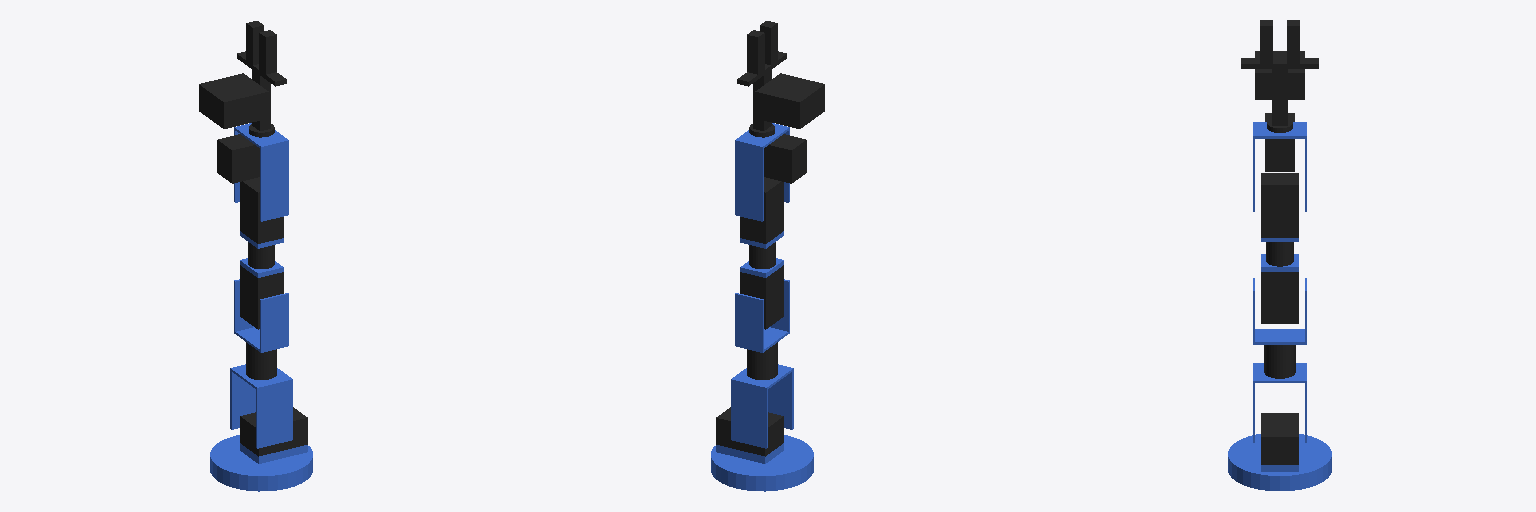
URDF robot description (xArm):
<?xml version="1.0" ?>
<robot name="xArm">

<!--arm_worls_link-->
  <link name="world"/>

  <joint name="world_joint" type="fixed">
    <parent link="world"/>
    <child link="base_link"/>
    <origin rpy="0.0 0.0 0.0" xyz="0.0 0.0 0.05"/>
  </joint>

  <link name="base_link"/>

  <!--arm_link_1-->

  <joint name="arm1" type="continuous">
    <parent link="base_link"/>
    <child link="link1"/>
    <origin rpy="0.0 0.0 0.0" xyz="0.0 0.0 0.05"/>
    <axis xyz="0 0 1"/>
  </joint>

  <link name="link1">
    <visual>
      <origin rpy="0 0 0.0" xyz="0 0 0.0065"/>
      <geometry>
        <cylinder length="0.013" radius="0.04"/>
      </geometry>
      <material name="blue">
	<color rgba="0.3 0.5 0.9 1.0"/>
      </material>
    </visual>
    <visual>
      <origin rpy="0 0 0" xyz="0.011 0.0 0.01625"/>
      <geometry>
        <box size="0.044 0.0285 0.0065"/>
      </geometry>
      <material name="blue">
	<color rgba="0.3 0.5 0.9 1.0"/>
      </material>
    </visual>
    <visual>
      <origin rpy="0 0 0" xyz="0.011 0.0 0.031"/>
      <geometry>
        <box size="0.044 0.0285 0.023"/>
      </geometry>
      <material name="black">
	<color rgba="0.2 0.2 0.2 1"/>
      </material>
    </visual>
  </link>

  <!--arm_link_2-->

  <joint name="arm2" type="continuous">
    <parent link="link1"/>
    <child link="link2"/>
    <origin rpy="0.0 0.0 0.0" xyz="0.0 0.0 0.0425"/>
    <axis xyz="0 1 0"/>
  </joint>

  <link name="link2">
    <visual>
      <origin rpy="0 0 0" xyz="0.0 0.02 0.0135"/>
      <geometry>
        <box size="0.032 0.002 0.052"/>
      </geometry>
      <material name="blue">
	<color rgba="0.3 0.5 0.9 1.0"/>
      </material>
    </visual>
    <visual>
      <origin rpy="0 0 0" xyz="0.0 -0.02 0.0135"/>
      <geometry>
        <box size="0.032 0.002 0.052"/>
      </geometry>
      <material name="blue">
	<color rgba="0.3 0.5 0.9 1.0"/>
      </material>
    </visual>
    <visual>
      <origin rpy="0 0 0" xyz="0.0 0.0 0.0385"/>
      <geometry>
        <box size="0.032 0.042 0.002"/>
      </geometry>
      <material name="blue">
	<color rgba="0.3 0.5 0.9 1.0"/>
      </material>
    </visual>
    <visual>
      <origin rpy="0 0 1.57075" xyz="0 0 0.054"/>
      <geometry>
        <cylinder length="0.029" radius="0.012"/>
      </geometry>
      <material name="black">
	<color rgba="0.2 0.2 0.2 1.0"/>
      </material>
    </visual>
    <visual>
      <origin rpy="0 0 0" xyz="0.0 0.0 0.0695"/>
      <geometry>
        <box size="0.025 0.042 0.002"/>
      </geometry>
      <material name="blue">
	<color rgba="0.3 0.5 0.9 1.0"/>
      </material>
    </visual>
    <visual>
      <origin rpy="0 0 0" xyz="0.0 0.02 0.091"/>
      <geometry>
        <box size="0.025 0.002 0.045"/>
      </geometry>
      <material name="blue">
	<color rgba="0.3 0.5 0.9 1.0"/>
      </material>
    </visual>
    <visual>
      <origin rpy="0 0 0" xyz="0.0 -0.02 0.091"/>
      <geometry>
        <box size="0.025 0.002 0.045"/>
      </geometry>
      <material name="blue">
	<color rgba="0.3 0.5 0.9 1.0"/>
      </material>
    </visual>
  </link>

  <!--arm_link_3-->

  <joint name="arm3" type="continuous">
    <parent link="link2"/>
    <child link="link3"/>
    <origin rpy="0.0 0.0 0.0" xyz="0.0 0.0 0.0965"/>
    <axis xyz="0 1 0"/>
  </joint>

  <link name="link3">
    <visual>
      <origin rpy="0 0 0" xyz="0.0 0.0 0.011"/>
      <geometry>
        <box size="0.023 0.0285 0.044"/>
      </geometry>
      <material name="black">
	<color rgba="0.2 0.2 0.2 1"/>
      </material>
    </visual>
    <visual>
      <origin rpy="0 0 0" xyz="0.0 0.0 0.035"/>
      <geometry>
        <box size="0.023 0.0285 0.004"/>
      </geometry>
      <material name="blue">
	<color rgba="0.3 0.5 0.9 1.0"/>
      </material>
    </visual>
    <visual>
      <origin rpy="0 0 1.57075" xyz="0 0 0.0475"/>
      <geometry>
        <cylinder length="0.021" radius="0.0105"/>
      </geometry>
      <material name="black">
	<color rgba="0.2 0.2 0.2 1.0"/>
      </material>
    </visual>
    <visual>
      <origin rpy="0 0 0" xyz="0.0 0.0 0.060"/>
      <geometry>
        <box size="0.023 0.0285 0.004"/>
      </geometry>
      <material name="blue">
	<color rgba="0.3 0.5 0.9 1.0"/>
      </material>
    </visual>
    <visual>
      <origin rpy="0 0 0" xyz="0.0 0.0 0.084"/>
      <geometry>
        <box size="0.023 0.0285 0.044"/>
      </geometry>
      <material name="black">
	<color rgba="0.2 0.2 0.2 1"/>
      </material>
    </visual>
  </link>

  <joint name="arm4" type="continuous">
    <parent link="link3"/>
    <child link="link4"/>
    <origin rpy="0.0 0.0 0.0" xyz="0.0 0.0 0.0965"/>
    <axis xyz="0 1 0"/>
  </joint>

<!--arm_link_4-->
  <link name="link4">
    <visual>
      <origin rpy="0 0 0" xyz="0.0 0.02 0.0195"/>
      <geometry>
        <box size="0.025 0.002 0.064"/>
      </geometry>
      <material name="blue">
	<color rgba="0.3 0.5 0.9 1.0"/>
      </material>
    </visual>
    <visual>
      <origin rpy="0 0 0" xyz="0.0 -0.02 0.0195"/>
      <geometry>
        <box size="0.025 0.002 0.064"/>
      </geometry>
      <material name="blue">
	<color rgba="0.3 0.5 0.9 1.0"/>
      </material>
    </visual>
    <visual>
      <origin rpy="0 0 0" xyz="0.0 0.0 0.0505"/>
      <geometry>
        <box size="0.025 0.042 0.002"/>
      </geometry>
      <material name="blue">
	<color rgba="0.3 0.5 0.9 1.0"/>
      </material>
    </visual>
    <visual>
      <origin rpy="0 0 0" xyz="-0.011 0.0 0.03525"/>
      <geometry>
        <box size="0.044 0.023 0.0285"/>
      </geometry>
      <material name="black">
	<color rgba="0.2 0.2 0.2 1"/>
      </material>
    </visual>
  </link>

<!--arm_link_5-->
  <joint name="arm5" type="continuous">
    <parent link="link4"/>
    <child link="link5"/>
    <origin rpy="0.0 0.0 0.0" xyz="0.0 0.0 0.055"/>
    <axis xyz="0 0 1"/>
  </joint>

  <link name="link5">
    <visual>
      <origin rpy="0 0 0.0" xyz="0 0 0"/>
      <geometry>
        <cylinder length="0.004" radius="0.01"/>
      </geometry>
      <material name="black">
	<color rgba="0.2 0.2 0.2 1.0"/>
      </material>
    </visual>
  </link>

<!--gripper_link-->
  <link name="gripper_link">
    <visual>
      <geometry>
        <box size="0.01 0.06 0.004"/>
      </geometry>
      <origin rpy="0 0 0" xyz="0 0 0.002"/>
      <material name="black">
      	<color rgba="0.2 0.2 0.2 1.0"/>
      </material>
    </visual>
    <collision>
      <geometry>
        <box size="0.01 0.06 0.004"/>
      </geometry>
      <origin rpy="0 0 0" xyz="0 0 0.002"/>
    </collision>
    <visual>
      <origin rpy="0 0 0" xyz="-0.025 0.0 -0.02"/>
      <geometry>
        <box size="0.04 0.039 0.023"/>
      </geometry>
      <material name="black">
	      <color rgba="0.2 0.2 0.2 1"/>
      </material>
    </visual>
        <visual>
      <origin rpy="0 0 0" xyz="0.0 0.0 -0.03"/>
      <geometry>
        <box size="0.01 0.012 0.06"/>
      </geometry>
      <material name="black">
	      <color rgba="0.2 0.2 0.2 1"/>
      </material>
    </visual>
  </link>
  <joint name="gripper_to_arm" type="fixed">
    <origin rpy="0 0 0" xyz="0 0 0.05"/>
    <parent link="link5"/>
    <child link="gripper_link"/>
  </joint>
  
  <!--left_gripper_finger-->
  <link name="left_gripper">
    <visual>
      <geometry>
        <box size="0.01 0.01 0.032"/>
      </geometry>
      <origin rpy="0 0 0" xyz="0 0 0.016"/>
      <material name="black">
      	<color rgba="0.2 0.2 0.2 1.0"/>
      </material>
    </visual>
    <collision>
      <geometry>
        <box size="0.01 0.01 0.032"/>
      </geometry>
      <origin rpy="0 0 0" xyz="0 0 0.016"/>
    </collision>
  </link>
  <joint name="gripper1" type="prismatic">
    <origin rpy="0 0 0" xyz="0 -0.01 0.004"/>
    <parent link="gripper_link"/>
    <child link="left_gripper"/>
    <axis xyz="0 1 0"/>
    <limit effort="16" lower="0" upper="0.03" velocity="2"/>
    <dynamics damping="50" friction="1"/>
  </joint>
  
  <!--right_gripper_finger-->
  <link name="right_gripper">
    <visual>
      <geometry>
        <box size="0.01 0.01 0.032"/>
      </geometry>
      <origin rpy="0 0 0" xyz="0 0 0.016"/>
      <material name="black">
      	<color rgba="0.2 0.2 0.2 1.0"/>
      </material>
    </visual>
    <collision>
      <geometry>
        <box size="0.01 0.01 0.032"/>
      </geometry>
      <origin rpy="0 0 0" xyz="0 0 0.016"/>
    </collision>
  </link>
  <joint name="gripper2" type="prismatic">
    <origin rpy="0 0 0" xyz="0 0.01 0.004"/>
    <parent link="gripper_link"/>
    <child link="right_gripper"/>
    <axis xyz="0 1 0"/>
    <limit effort="16" lower="-0.03" upper="0" velocity="2"/>
    <mimic joint="gripper1" multiplier="-1"/>
    <dynamics damping="50" friction="1"/>
  </joint>
</robot>

--- Facts derived from the render (not from the file) ---
Views: 3 orthographic renders of the robot side by side, from view 1: azimuth 30°, elevation 25°; view 2: azimuth 150°, elevation 25°; view 3: azimuth 270°, elevation 25°.
Robot: xArm — 10 links, 9 joints (5 continuous, 2 prismatic, 2 fixed); root link world; default pose: every joint at zero.
Links seen in each view (by area): view 1: link2, link1, link4, link3, gripper_link, left_gripper, right_gripper; view 2: link2, link1, link4, link3, gripper_link, right_gripper, left_gripper; view 3: link1, link3, link2, gripper_link, link4, left_gripper, right_gripper.
Link boxes in pixels (box(x1,y1,x2,y2)): link2: box(230, 279, 292, 448); link1: box(210, 407, 312, 491); link4: box(217, 123, 288, 221); link3: box(240, 177, 283, 329); gripper_link: box(199, 51, 286, 137); left_gripper: box(259, 30, 276, 74); right_gripper: box(246, 21, 263, 64); link2: box(731, 279, 793, 448); link1: box(711, 407, 813, 491); link4: box(735, 123, 806, 221); link3: box(740, 177, 783, 329); gripper_link: box(737, 51, 824, 137); right_gripper: box(747, 30, 764, 74); left_gripper: box(760, 21, 777, 64); link1: box(1228, 413, 1331, 490); link3: box(1261, 173, 1298, 323); link2: box(1253, 278, 1306, 442); gripper_link: box(1241, 51, 1318, 125); link4: box(1253, 113, 1306, 211); left_gripper: box(1260, 20, 1272, 63); right_gripper: box(1287, 20, 1299, 63).
Bounding box of the posed robot: 0.085 × 0.08 × 0.3765 m (x, y, z).
Geometry: primitives only (box / cylinder / sphere), no mesh files.
